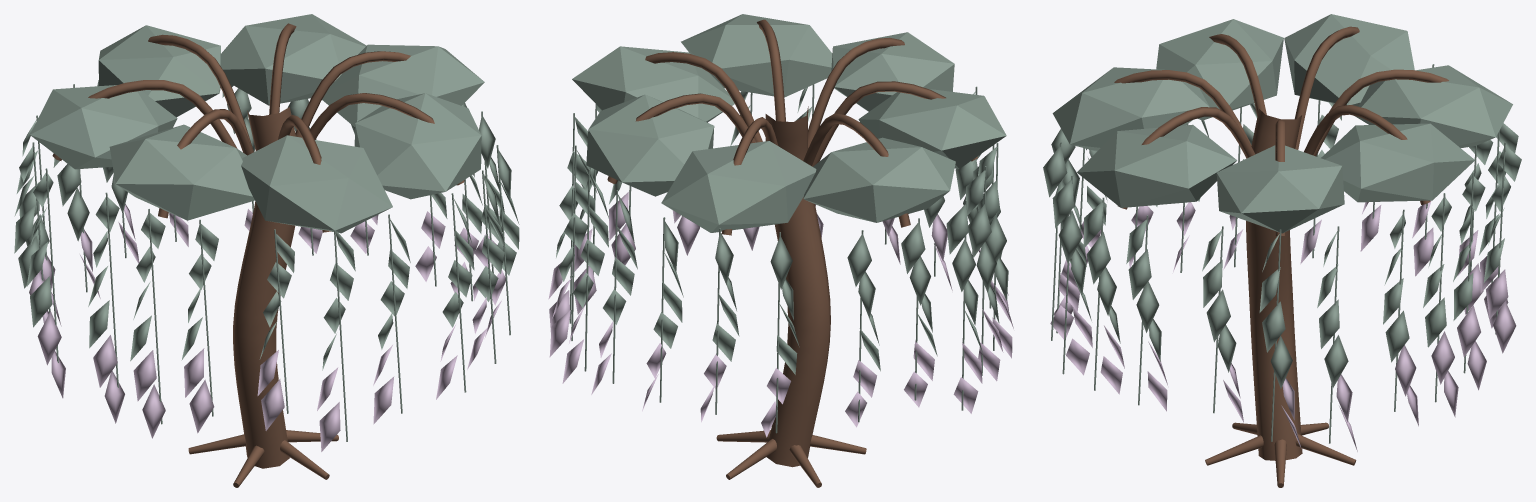
The model's file is veil-willow.glb.
3 views of the same model, side by side, from view 1: azimuth 30°, elevation 25°; view 2: azimuth 150°, elevation 25°; view 3: azimuth 270°, elevation 25° (orthographic).
Parts seen in each view (by area): view 1: Vesper / veil-willow; view 2: Vesper / veil-willow; view 3: Vesper / veil-willow.
Boxes of the visible parts, x1,y1,x2,y2 form: Vesper / veil-willow: (14, 14, 519, 487); Vesper / veil-willow: (548, 14, 1013, 487); Vesper / veil-willow: (1043, 14, 1521, 487).
Size of the model in its own units: 8.24 by 7.03 by 8.09.
